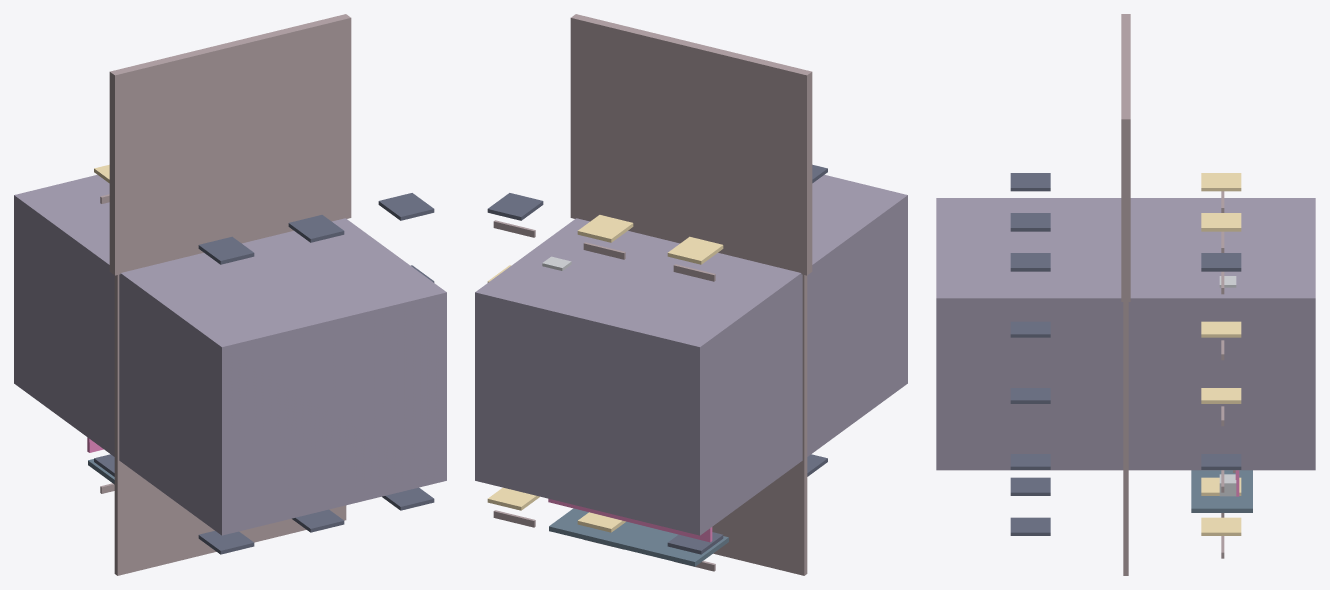
The model's file is buildings.glb.
The picture shows the model from 3 angles, left to right: view 1: azimuth 30°, elevation 25°; view 2: azimuth 150°, elevation 25°; view 3: azimuth 270°, elevation 25°; orthographic projection. The views are drawn at different scales.
Visible parts, largest first — view 1: BuildingBody, RoofEdge, FloorLine1, FloorLine2, WinB40, WinB41, WinB42, WinB00, WinB02, WinB01, FloorLine3; view 2: BuildingBody, RoofEdge, FloorLine1, ShopFront, FloorLine2, WinF40, WinF41, WinF42, Awning, WinF02, WinF00, FloorLine3 (+1 smaller); view 3: BuildingBody, RoofEdge, ShopFront, FloorLine1, WinF41, WinB41, WinF42, WinB42, WinB01, WinF02, WinB02, WinF40 (+9 smaller).
Part boxes in pixels (x1,y1,x2,y2): BuildingBody: (14,174,446,535); RoofEdge: (109,14,351,275); FloorLine1: (114,382,346,575); FloorLine2: (114,306,159,500); WinB40: (198,236,254,264); WinB41: (288,215,344,242); WinB42: (378,193,434,220); WinB00: (198,531,254,554); WinB02: (382,487,434,510); WinB01: (292,509,344,532); FloorLine3: (114,275,119,425); BuildingBody: (475,174,907,535); RoofEdge: (570,14,812,275); FloorLine1: (712,382,807,575); ShopFront: (549,508,728,566); FloorLine2: (762,306,807,500); WinF40: (667,236,723,264); WinF41: (577,215,633,242); WinF42: (487,193,543,220); Awning: (548,498,712,542); WinF02: (487,487,539,510); WinF00: (667,532,723,554); FloorLine3: (802,275,807,425); BuildingBody: (936,198,1315,470); RoofEdge: (1121,14,1130,301); ShopFront: (1191,470,1252,512); FloorLine1: (1123,400,1128,575); WinF41: (1201,213,1241,231); WinB41: (1010,213,1050,231); WinF42: (1201,253,1241,271); WinB42: (1010,253,1050,271); WinB01: (1010,477,1050,495); WinF02: (1201,517,1241,535); WinB02: (1010,517,1050,535); WinF40: (1201,173,1241,191).
Bounding box in the file's own units: 11.65 × 21.33 × 16.
